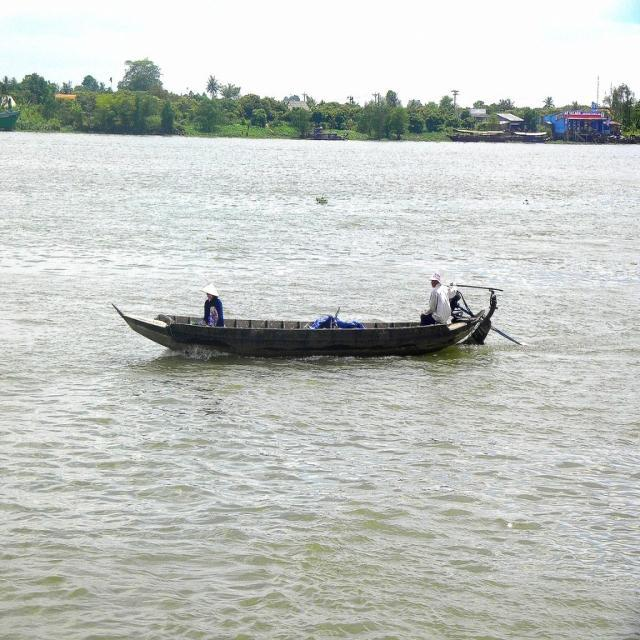boat: (104, 288, 532, 363)
